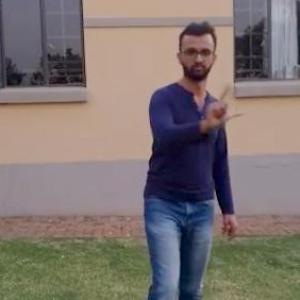land_hand: (199, 76, 247, 133)
